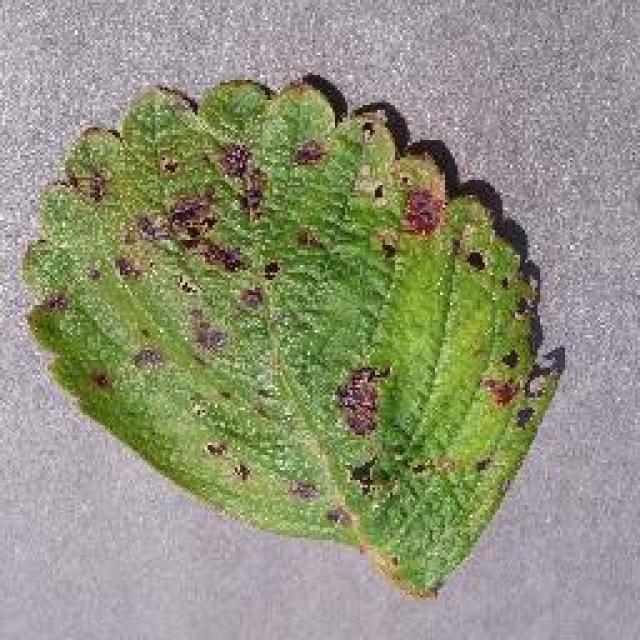Strawberry leaf scorch: (73, 110, 482, 500)
